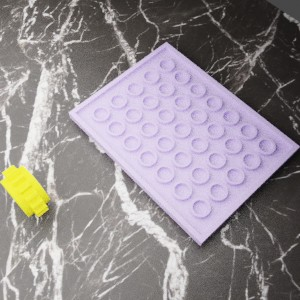lego: (68, 41, 300, 246), (0, 165, 50, 217)
